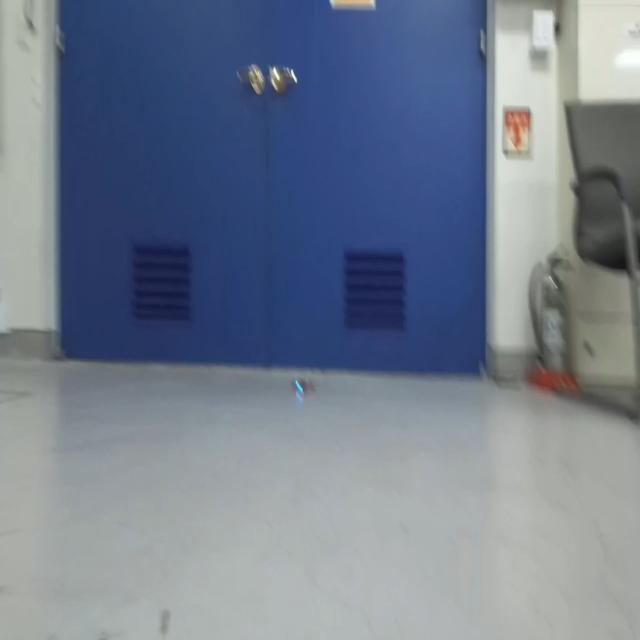crazyflie: (289, 374, 315, 402)
